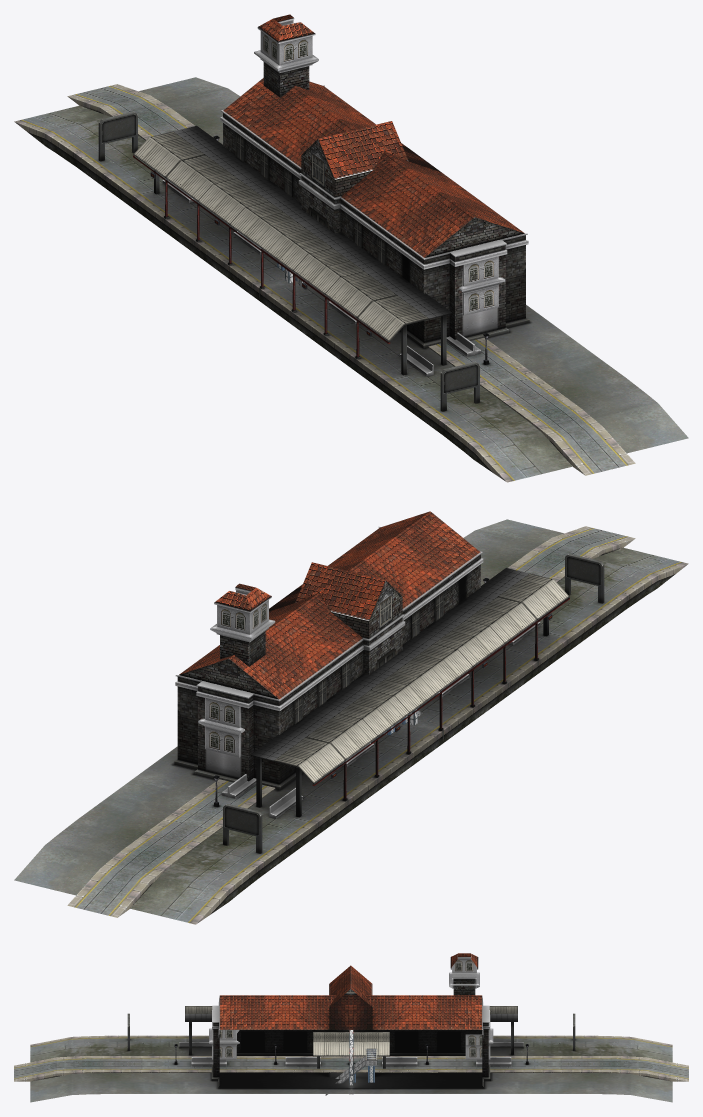
File: Platform.FBX
3 renders of one model, top to bottom at view 1: azimuth 30°, elevation 25°; view 2: azimuth 150°, elevation 25°; view 3: azimuth 270°, elevation 25°, orthographic. The views are drawn at different scales.
Parts seen in each view (by area): view 1: Object001, Object011; view 2: Object001, Object011; view 3: Object001, Object011, Object012, Box037, Box041.
Part boxes in pixels (x1=…): Object001: x1=14, y1=14, x2=688, y2=482; Object011: x1=67, y1=84, x2=635, y2=475; Object001: x1=14, y1=511, x2=688, y2=924; Object011: x1=67, y1=526, x2=635, y2=917; Object001: x1=30, y1=953, x2=672, y2=1102; Object011: x1=14, y1=1044, x2=688, y2=1081; Object012: x1=313, y1=1032, x2=389, y2=1068; Box037: x1=325, y1=1048, x2=377, y2=1095; Box041: x1=349, y1=1030, x2=353, y2=1094.
Size of the model in its own units: 29.81 by 30.57 by 146.
